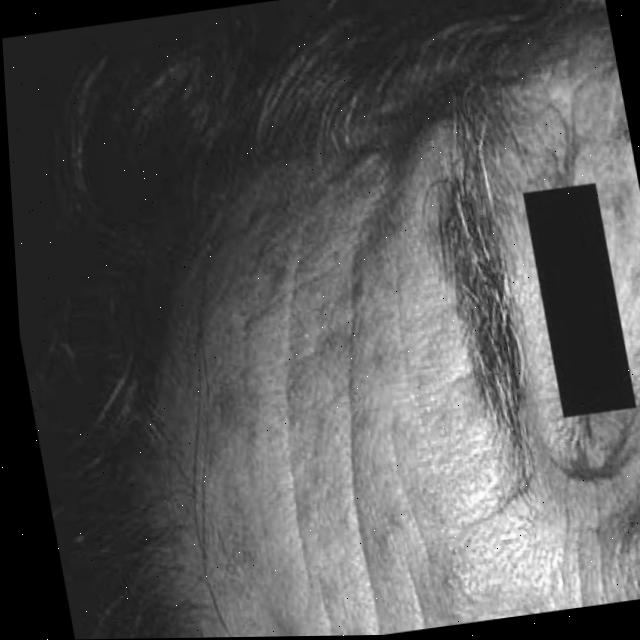Rosacea: (416, 542, 515, 616), (622, 506, 640, 599)
